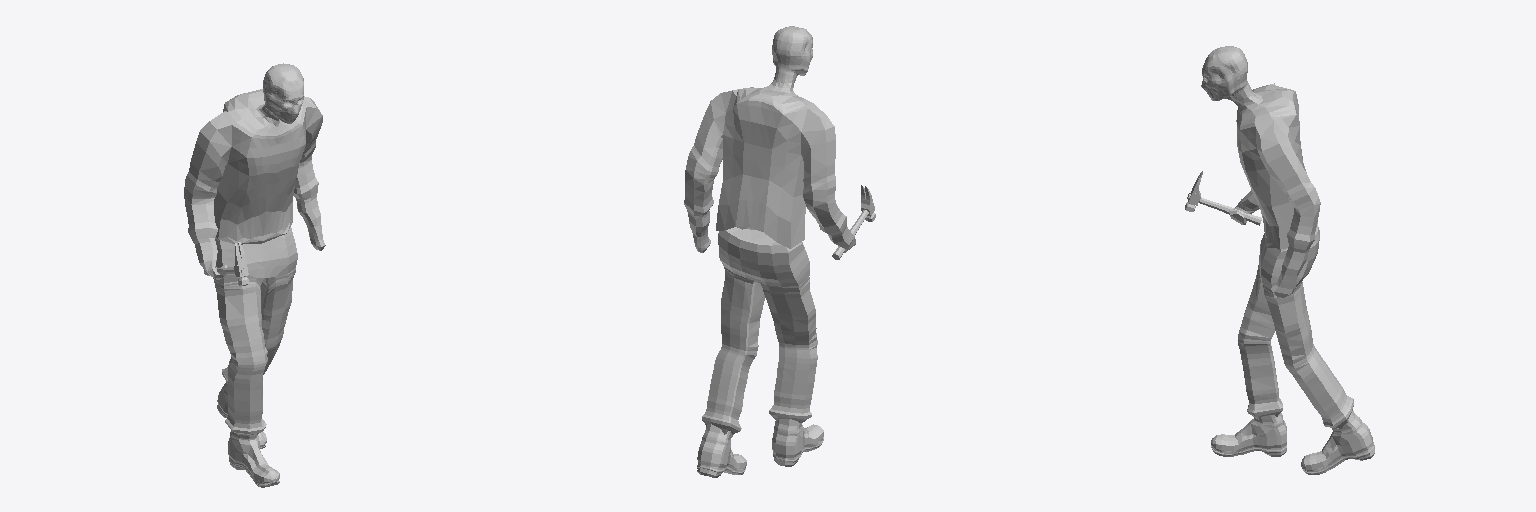
Rendered from Murderer_Idle136.obj.
3 views of the same model, side by side, from view 1: azimuth 30°, elevation 25°; view 2: azimuth 150°, elevation 25°; view 3: azimuth 270°, elevation 25° (orthographic).
Visible parts, largest first — view 1: Körper, Beine, Stiefel, Hammer; view 2: Körper, Beine, Stiefel, Hammer; view 3: Körper, Beine, Stiefel, Hammer.
Boxes of the visible parts, x1,y1,x2,y2 form: Körper: [184, 63, 325, 279]; Beine: [213, 227, 297, 435]; Stiefel: [217, 382, 279, 487]; Hammer: [204, 242, 249, 285]; Körper: [684, 26, 855, 252]; Beine: [702, 227, 817, 437]; Stiefel: [697, 419, 823, 477]; Hammer: [832, 185, 875, 259]; Körper: [1201, 46, 1320, 297]; Beine: [1238, 224, 1353, 428]; Stiefel: [1211, 411, 1374, 474]; Hammer: [1185, 171, 1261, 225].
Bounding box in the file's own units: 0.3391 × 0.9615 × 0.4008.